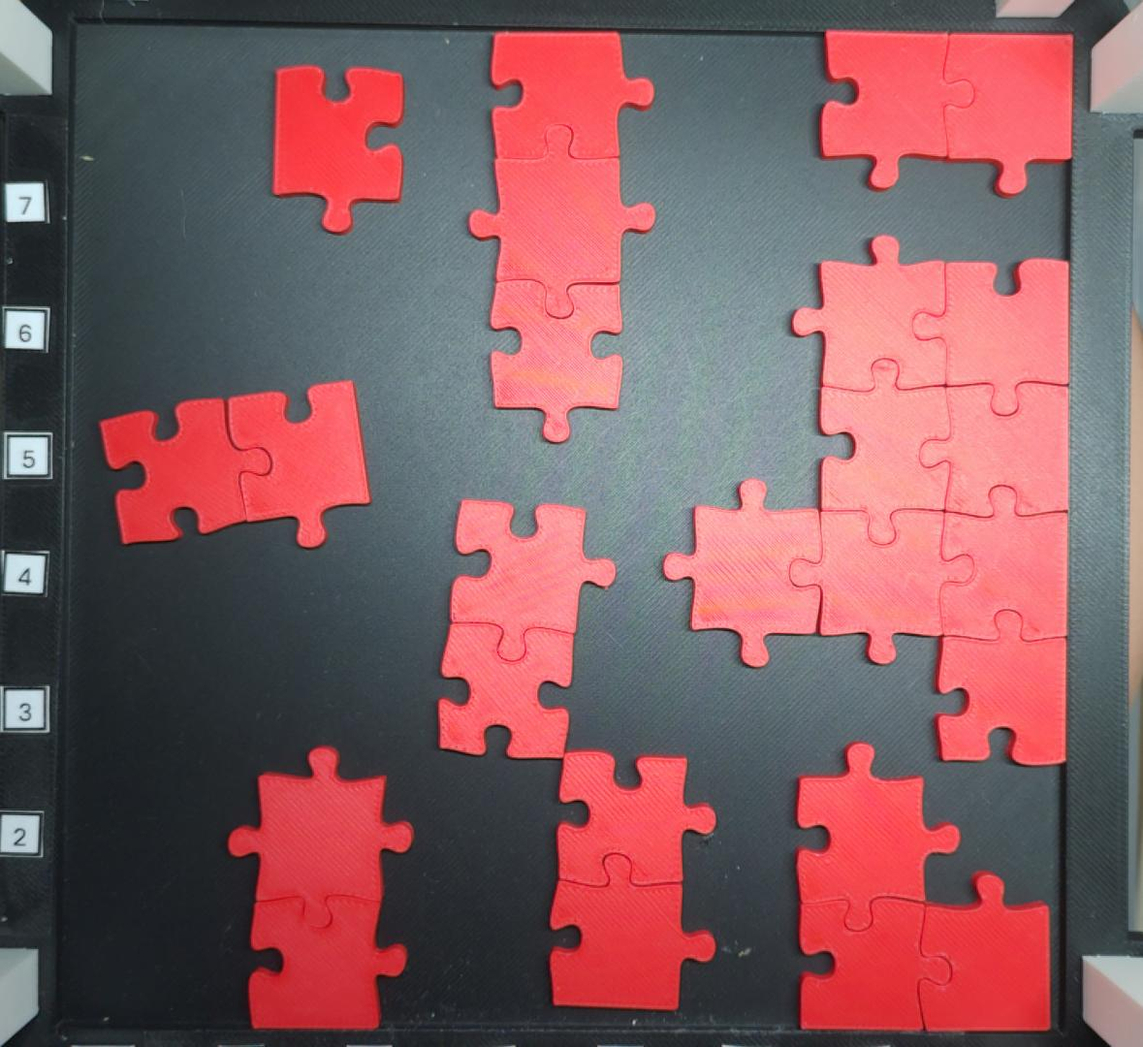p_1: (272, 65, 409, 234)
p_2: (227, 746, 415, 1032), (432, 500, 619, 757), (95, 379, 371, 550), (815, 28, 1073, 200), (549, 751, 719, 1009)
p_3: (466, 31, 655, 441), (793, 744, 1050, 1030)
p_m: (662, 235, 1072, 767)
